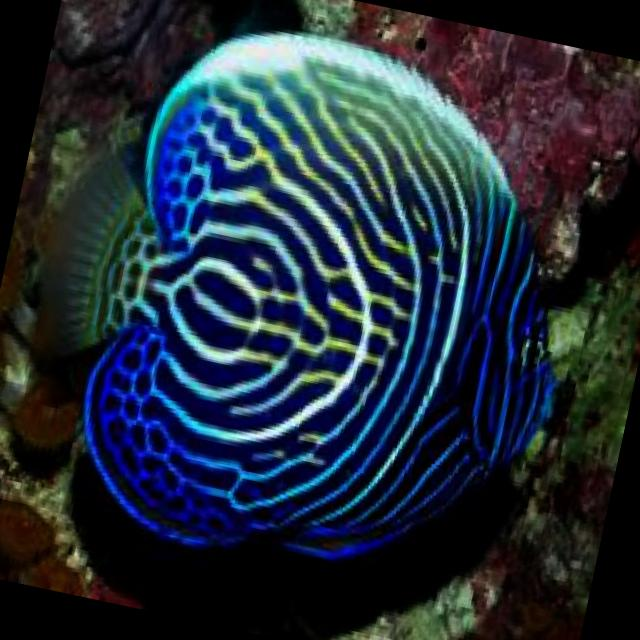AngelFish: (0, 0, 613, 612)
